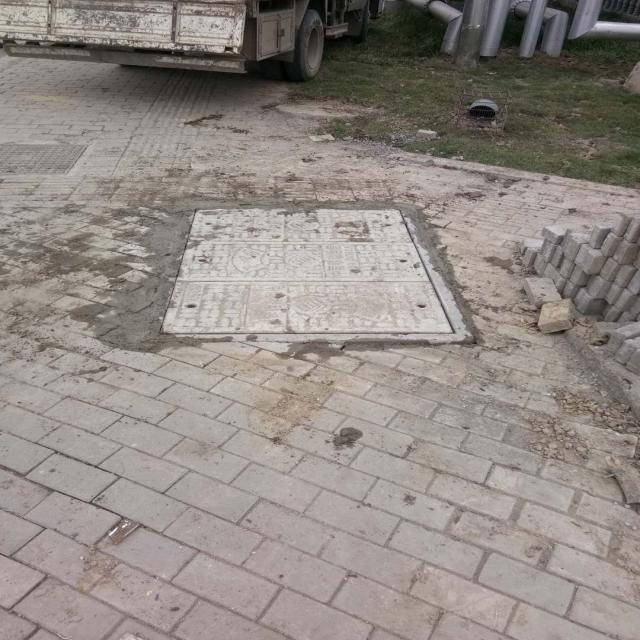Good: (155, 203, 469, 341)
